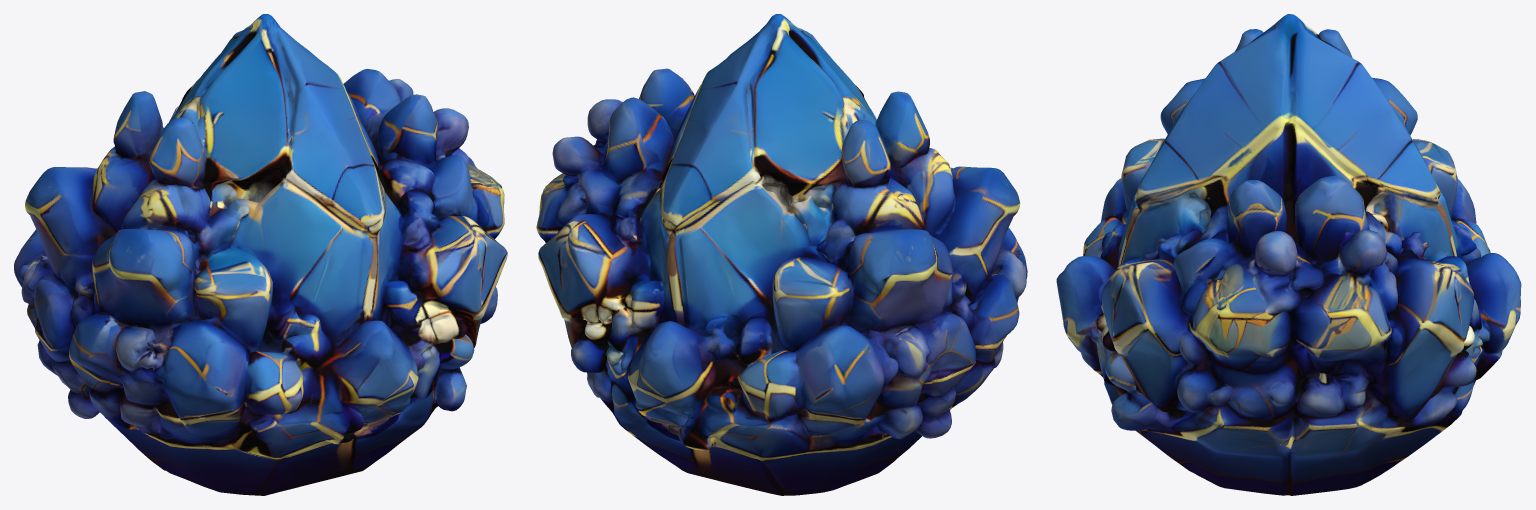
Rendered from GemBlue.fbx.
The picture shows the model from 3 angles, left to right: view 1: azimuth 30°, elevation 25°; view 2: azimuth 150°, elevation 25°; view 3: azimuth 270°, elevation 25°; orthographic projection.
Parts seen in each view (by area): view 1: texture_v100; view 2: texture_v100; view 3: texture_v100.
Boxes of the visible parts, x1=… form: texture_v100: x1=14, y1=14, x2=507, y2=495; texture_v100: x1=536, y1=14, x2=1027, y2=495; texture_v100: x1=1056, y1=14, x2=1521, y2=495.
Bounding box in the file's own units: 110 × 109 × 105.
1 material, 1 textured.
